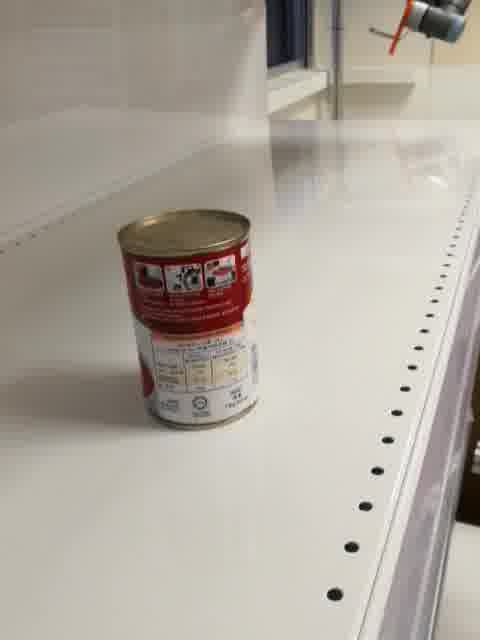tomatosoup: (116, 207, 261, 433)
